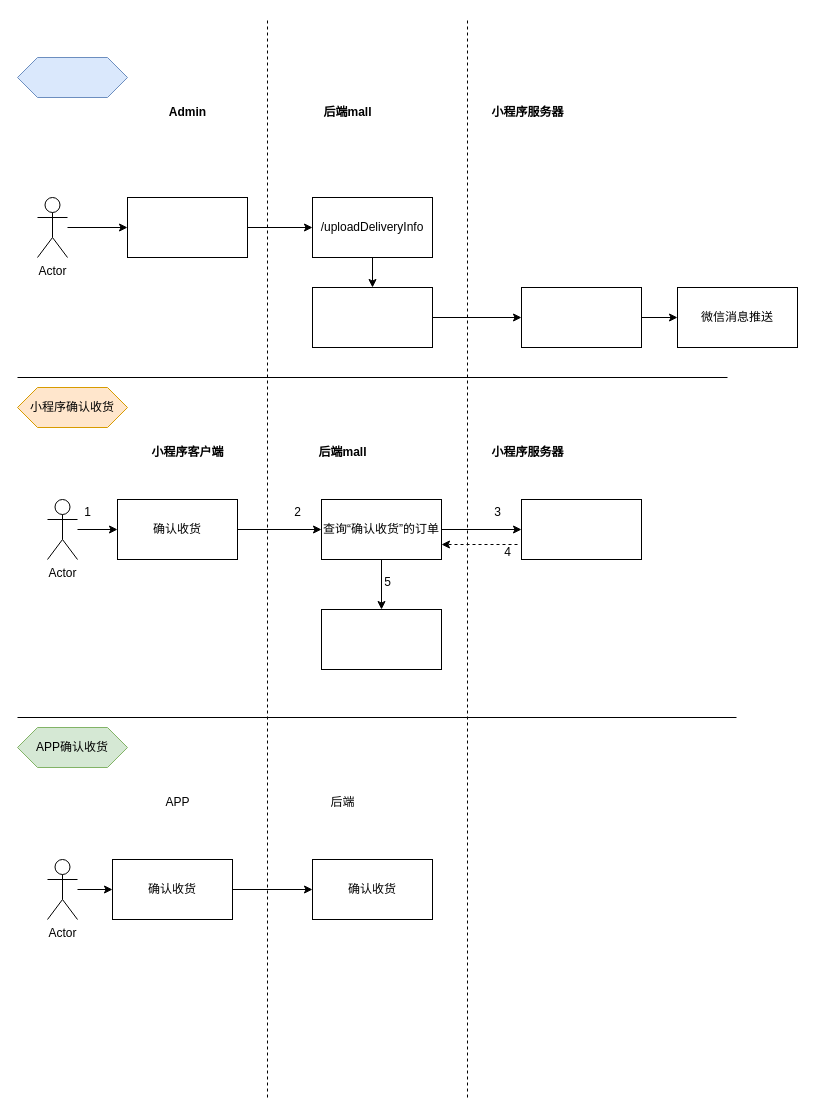
This 815x1116 diagram has some shape labels left out. Each missing label, with the centre of its shape:
"/getList" belongs at point (581, 529).
"/upload" belongs at point (581, 317).
"判断发货类型" belongs at point (372, 317).
"发货" belongs at point (187, 227).
"将订单状态 修改为已完成" belongs at point (381, 639).
"运营后台发货" belongs at point (72, 77).
